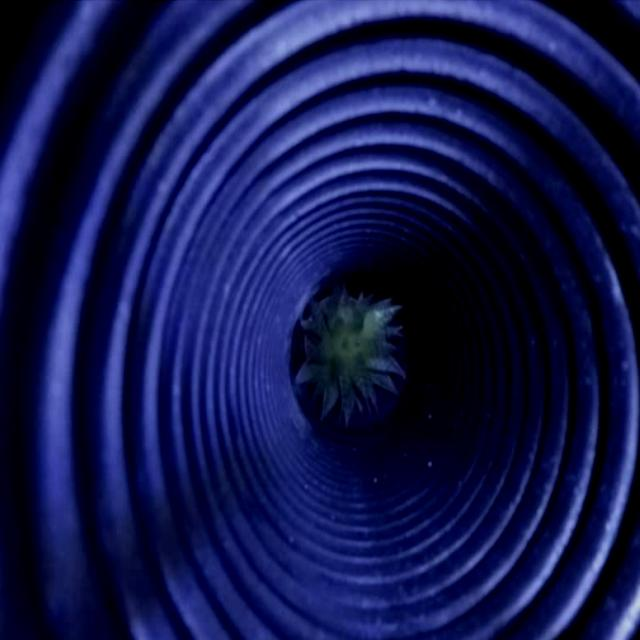leaf: (294, 288, 402, 428)
